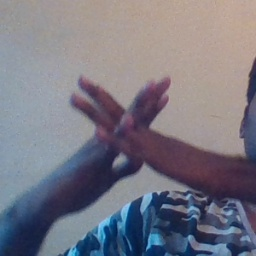W: (63, 66, 184, 196)
